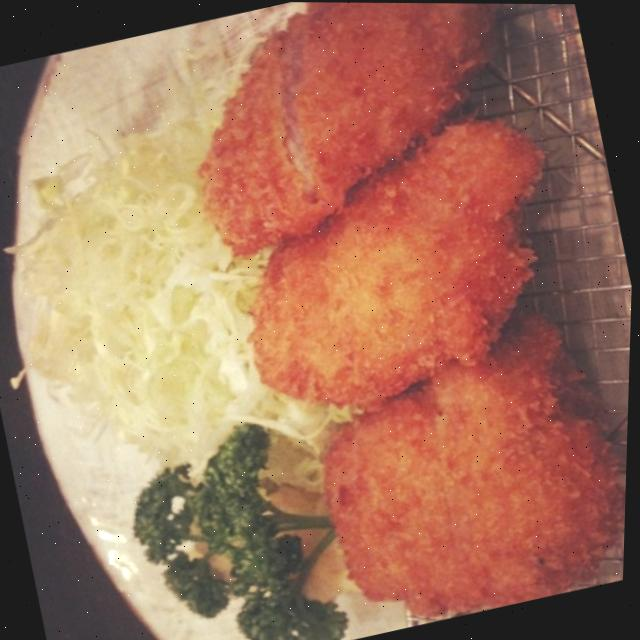牛肉菜式: (141, 1, 640, 640)
